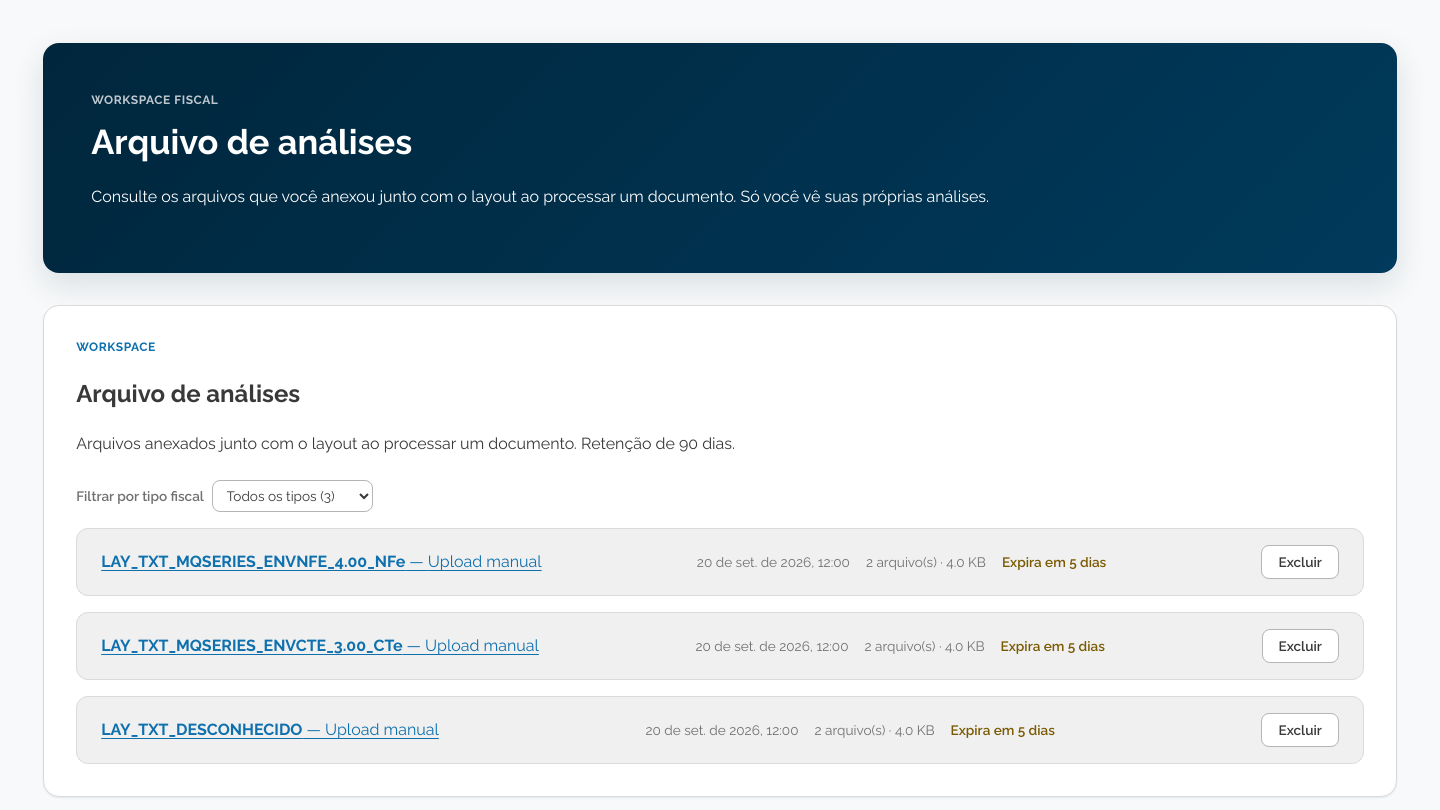
Test case: AnalysisArchivePage › filtra a listagem por tipo fiscal detectado
The width and height of the screenshot is (1440, 810).
Expected: the text "LAY_TXT_MQSERIES_ENVNFE_4.00_NFe" is shown, left=101, top=552, right=405, bottom=571
Expected: the text "LAY_TXT_MQSERIES_ENVCTE_3.00_CTe" is shown, left=101, top=636, right=402, bottom=655
Select "CT-e (1)" in the dropdown labelled "Filtrar por tipo fiscal": [293, 496] box left=212, top=480, right=373, bottom=512
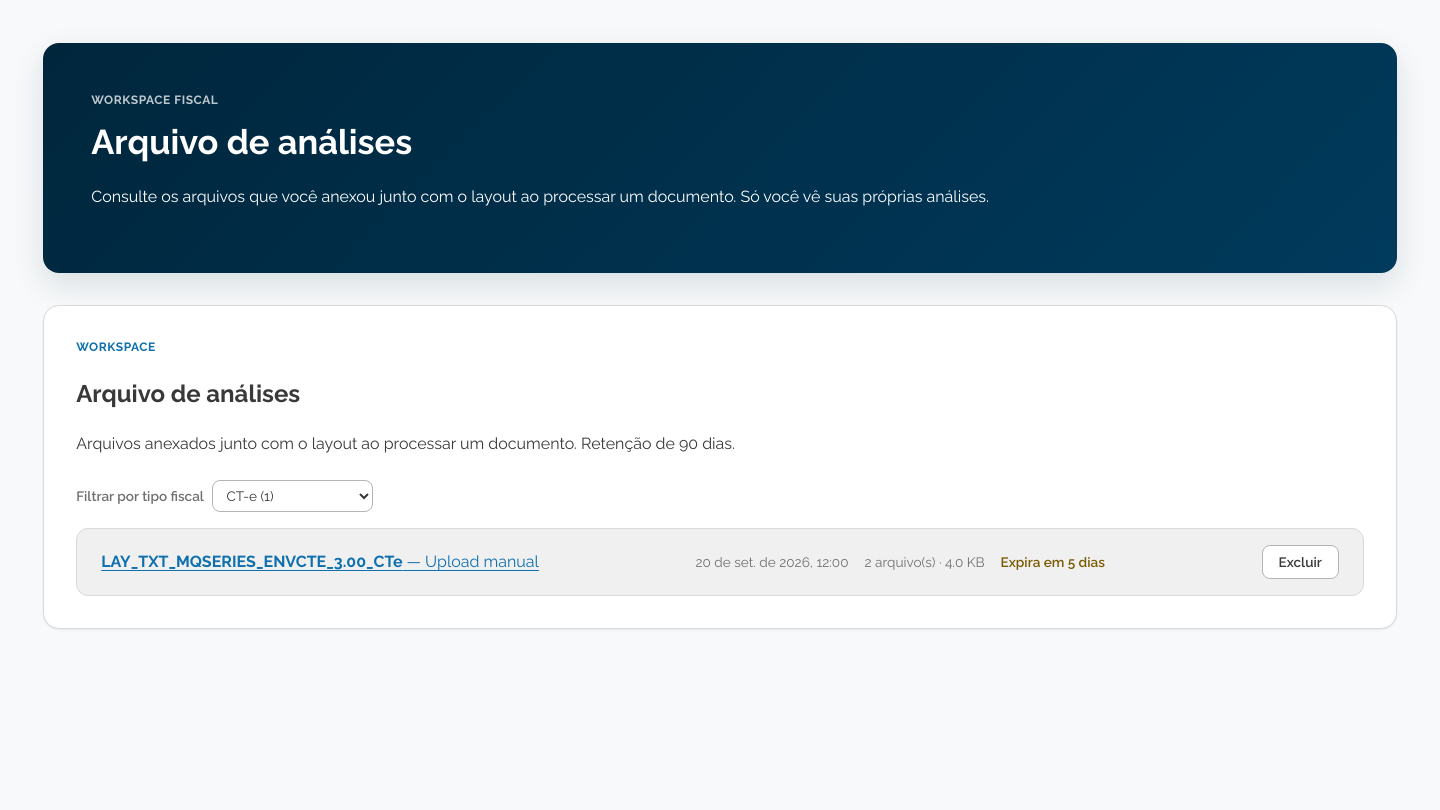
Expected: the text "LAY_TXT_MQSERIES_ENVCTE_3.00_CTe" is shown, left=101, top=552, right=402, bottom=571
Expected: the link "LAY_TXT_MQSERIES_ENVNFE_4.00_NFe" is gone
Expected: the link "LAY_TXT_DESCONHECIDO" is gone
